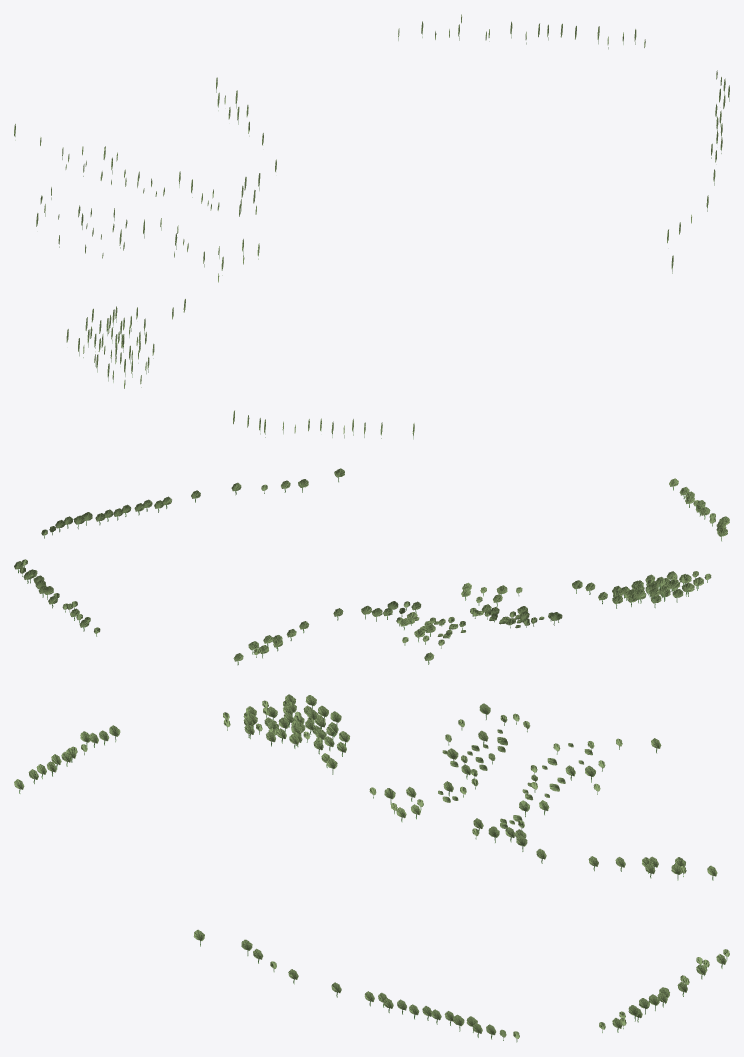
Rendered from City_Foliage.fbx.
3 views of the same model, one above another, from view 1: azimuth 30°, elevation 25°; view 2: azimuth 150°, elevation 25°; view 3: azimuth 270°, elevation 25° (orthographic). The views are drawn at different scales.
Parts seen in each view (by area): view 1: Foliage_cm1_m1_LOD0; view 2: Foliage_cm1_m1_LOD0, Foliage_cp0_p0_LOD0, Foliage_cm1_m2_LOD0, Foliage_cm1_p0_LOD0, Foliage_cp1_m1_LOD0, Foliage_cp1_p0_LOD0, Foliage_cp2_m1_LOD0, Foliage_cp2_p0_LOD0; view 3: Foliage_cm1_m1_LOD0, Foliage_cp0_p0_LOD0, Foliage_cm1_m2_LOD0, Foliage_cm1_p0_LOD0, Foliage_cp1_m1_LOD0, Foliage_cp1_p0_LOD0.
Part boxes in pixels (<box>): Foliage_cm1_m1_LOD0: <box>36,213,244,372</box>; Foliage_cm1_m1_LOD0: <box>461,574,694,625</box>; Foliage_cp0_p0_LOD0: <box>233,601,419,665</box>; Foliage_cm1_m2_LOD0: <box>666,478,729,590</box>; Foliage_cm1_p0_LOD0: <box>402,613,537,664</box>; Foliage_cp1_m1_LOD0: <box>113,480,290,520</box>; Foliage_cp1_p0_LOD0: <box>33,575,100,636</box>; Foliage_cp2_m1_LOD0: <box>55,509,113,532</box>; Foliage_cp2_p0_LOD0: <box>14,526,55,583</box>; Foliage_cm1_m1_LOD0: <box>256,701,490,819</box>; Foliage_cp0_p0_LOD0: <box>488,800,717,880</box>; Foliage_cm1_m2_LOD0: <box>14,706,257,793</box>; Foliage_cm1_p0_LOD0: <box>488,713,661,800</box>; Foliage_cp1_m1_LOD0: <box>253,948,431,1020</box>; Foliage_cp1_p0_LOD0: <box>639,949,729,1014</box>.
Size of what is drawn, in the model's own units: 156 by 10.34 by 145.
